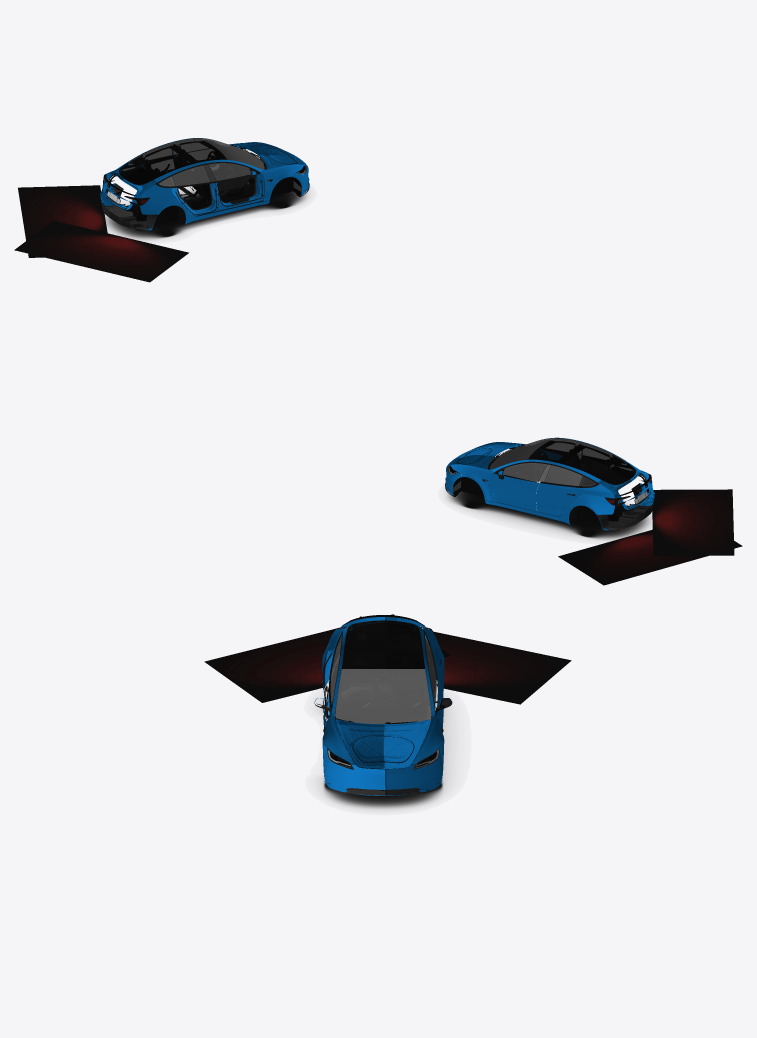
Rendered from Poppyseed.glb.
3 renders of one model, top to bottom at view 1: azimuth 30°, elevation 25°; view 2: azimuth 150°, elevation 25°; view 3: azimuth 270°, elevation 25°, orthographic. The views are drawn at different scales.
Visible parts, largest first — view 1: Stoplights_Projections, Body, Windows_Top, Floor, Interior_Body, Hood, Bumper_R_Perf, Window_RF, Window_RR, Trunk; view 2: Stoplights_Projections, Body, Windows_Top, Floor, Door_LF, Door_LR, Interior_Body, Hood, Bumper_R_Perf, Window_LF, Window_LR, Trunk; view 3: Stoplights_Projections, Windows_Top, Body, Hood, Bumper_F_Base, Interior_Body, Floor.
Boxes of the visible parts, x1,y1,x2,y2 form: Stoplights_Projections: (14,185,188,282); Body: (104,138,303,224); Windows_Top: (119,138,264,186); Floor: (105,181,307,239); Interior_Body: (106,141,254,211); Hood: (233,143,303,169); Bumper_R_Perf: (100,183,158,230); Window_RF: (208,163,250,180); Window_RR: (172,165,209,186); Trunk: (103,162,156,209); Stoplights_Projections: (558,489,742,585); Body: (450,437,650,525); Windows_Top: (489,438,636,486); Floor: (447,491,651,539); Door_LF: (490,472,540,511); Door_LR: (536,481,583,515); Interior_Body: (514,441,639,521); Hood: (451,443,521,469); Bumper_R_Perf: (596,483,654,530); Window_LF: (504,463,546,482); Window_LR: (545,465,582,486); Trunk: (598,462,651,509); Stoplights_Projections: (204,614,571,704); Windows_Top: (331,620,435,723); Body: (322,620,444,765); Hood: (335,719,431,769); Bumper_F_Base: (322,745,443,795); Interior_Body: (336,623,430,734); Floor: (322,701,445,808).
Bounding box in the file's own units: 14.7 × 1.45 × 11.06.
68 materials, 37 textured.
